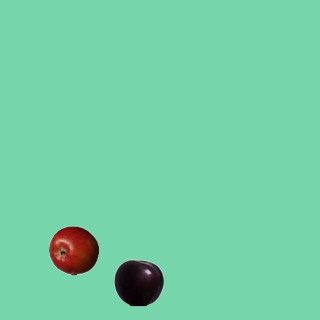Apple Braeburn: (48, 225, 98, 275)
Cherry Wax Black: (113, 257, 163, 307)
